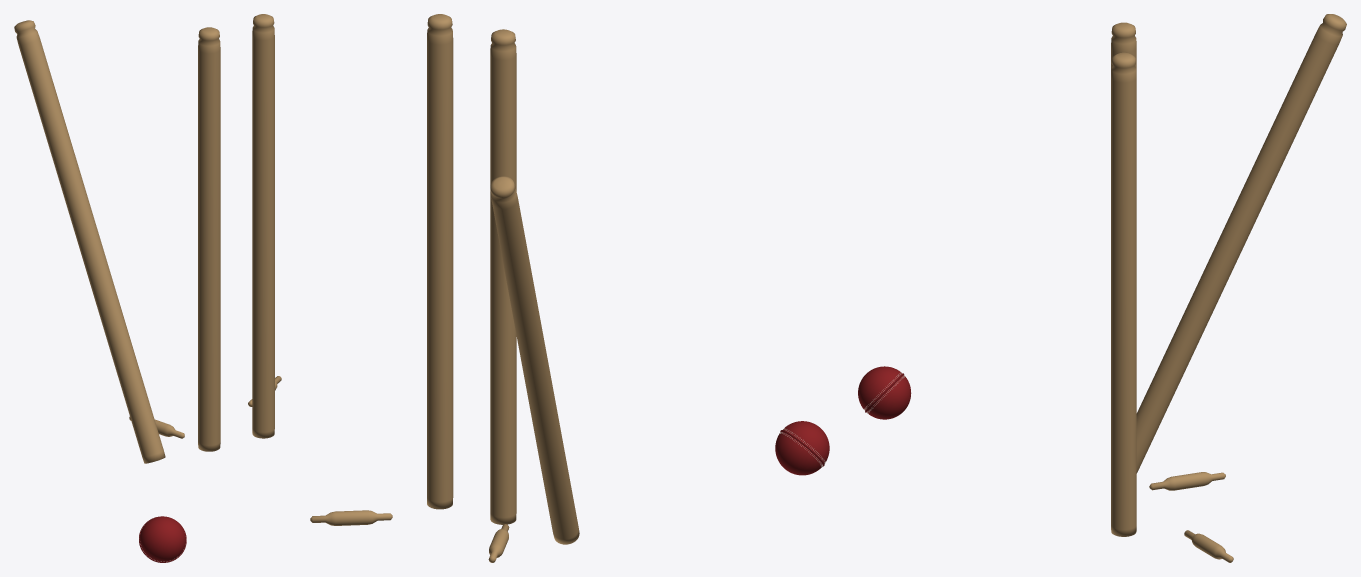
The model's file is bowled.glb.
3 views of the same model, side by side, from view 1: azimuth 30°, elevation 25°; view 2: azimuth 150°, elevation 25°; view 3: azimuth 270°, elevation 25° (orthographic). The views are drawn at different scales.
Parts seen in each view (by area): view 1: StumpOff, StumpMiddle, StumpLeg, CricketBall; view 2: StumpLeg, StumpMiddle, StumpOff, CricketBall, BailOff; view 3: StumpLeg, StumpOff, CricketBall, BailLeg, StumpMiddle, BailOff.
Boxes of the visible parts, x1=… form: StumpOff: x1=14, y1=20, x2=165, y2=463; StumpMiddle: x1=198, y1=27, x2=220, y2=451; StumpLeg: x1=252, y1=14, x2=274, y2=438; CricketBall: x1=139, y1=516, x2=186, y2=562; StumpLeg: x1=427, y1=14, x2=453, y2=509; StumpMiddle: x1=490, y1=29, x2=516, y2=524; StumpOff: x1=490, y1=176, x2=579, y2=544; CricketBall: x1=775, y1=421, x2=829, y2=475; BailOff: x1=310, y1=510, x2=392, y2=525; StumpLeg: x1=1111, y1=52, x2=1136, y2=536; StumpOff: x1=1136, y1=14, x2=1346, y2=473; CricketBall: x1=858, y1=366, x2=911, y2=419; BailLeg: x1=1149, y1=472, x2=1225, y2=490; StumpMiddle: x1=1111, y1=22, x2=1136, y2=72; BailOff: x1=1184, y1=530, x2=1233, y2=562.
Bounding box in the file's own units: 14.37 × 19.95 × 18.39.
